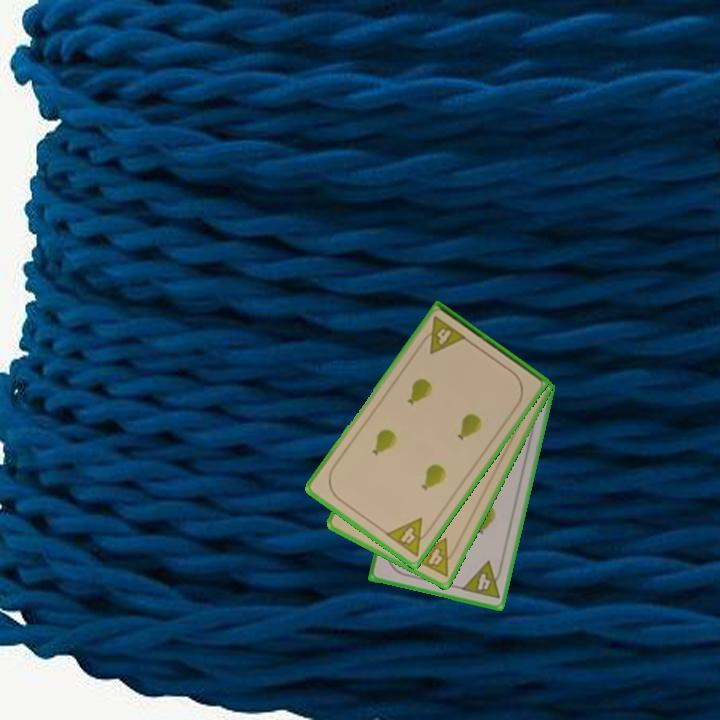4p: (409, 534, 462, 580), (382, 514, 436, 559), (416, 312, 469, 357), (458, 558, 506, 602)
